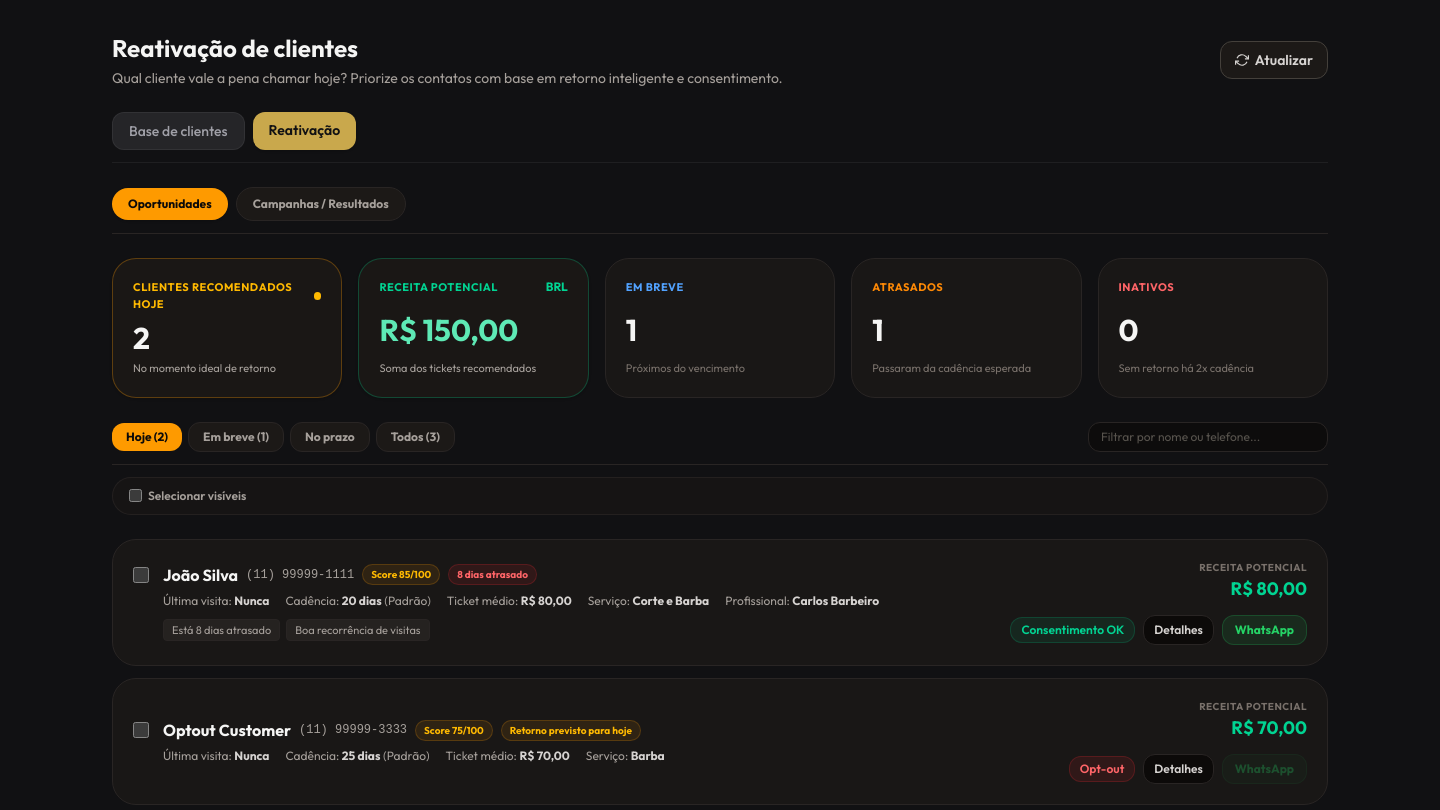
Smart CRM R4 — UI Component Tests › opens consent modal when clicking Registrar consentimento
The width and height of the screenshot is (1440, 810).
Expected: the text "João Silva" is shown, [163,563,238,587]
What coordinates should you click on to do the following:
click the tab "Todos (3)"
I would click on:
 (415, 436)
Its box is [376,422,455,452].
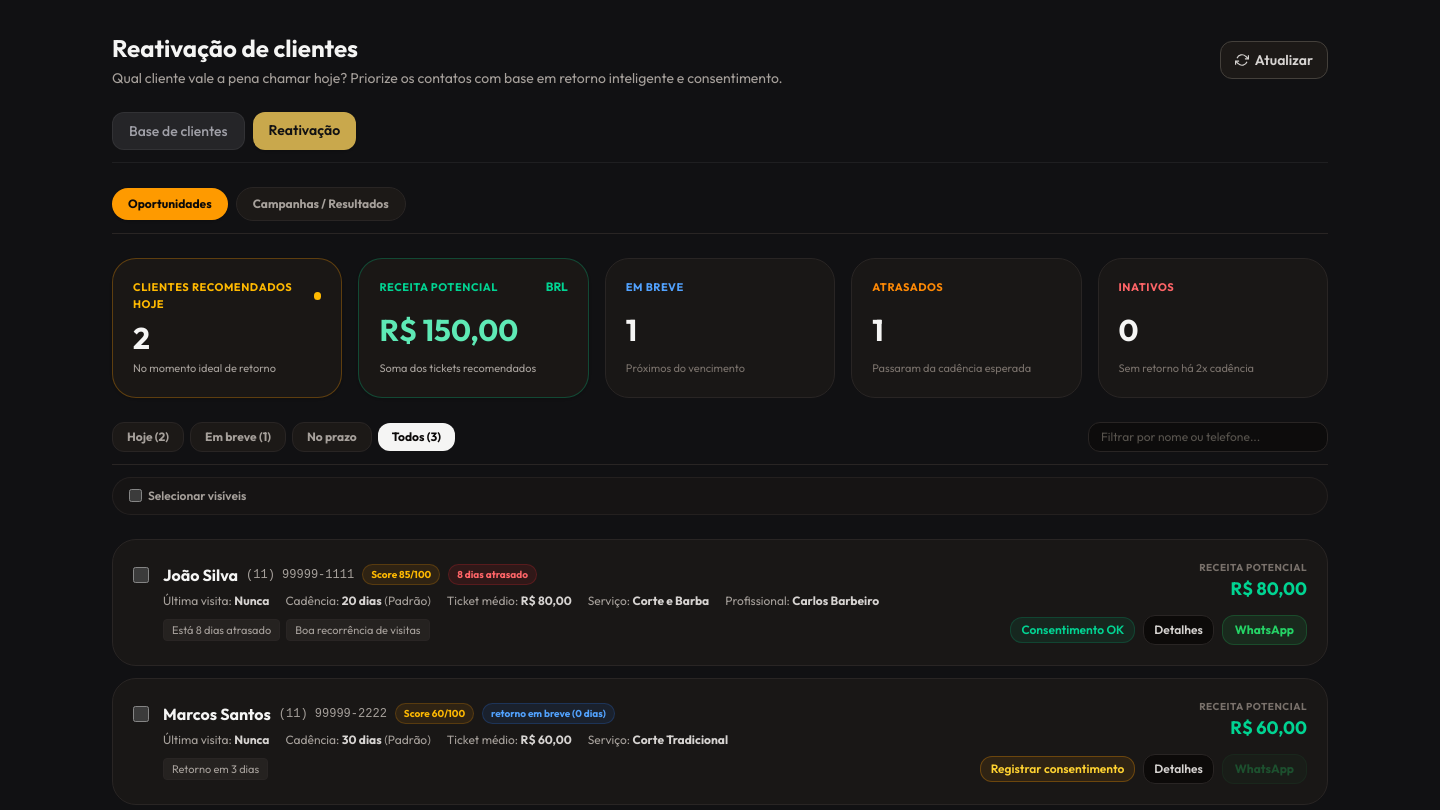
Result: the button "Registrar consentimento" is shown
What coordinates should you click on to do the following:
click the button "Registrar consentimento"
I would click on:
 (1058, 768)
Its box is [980,756,1135,782].
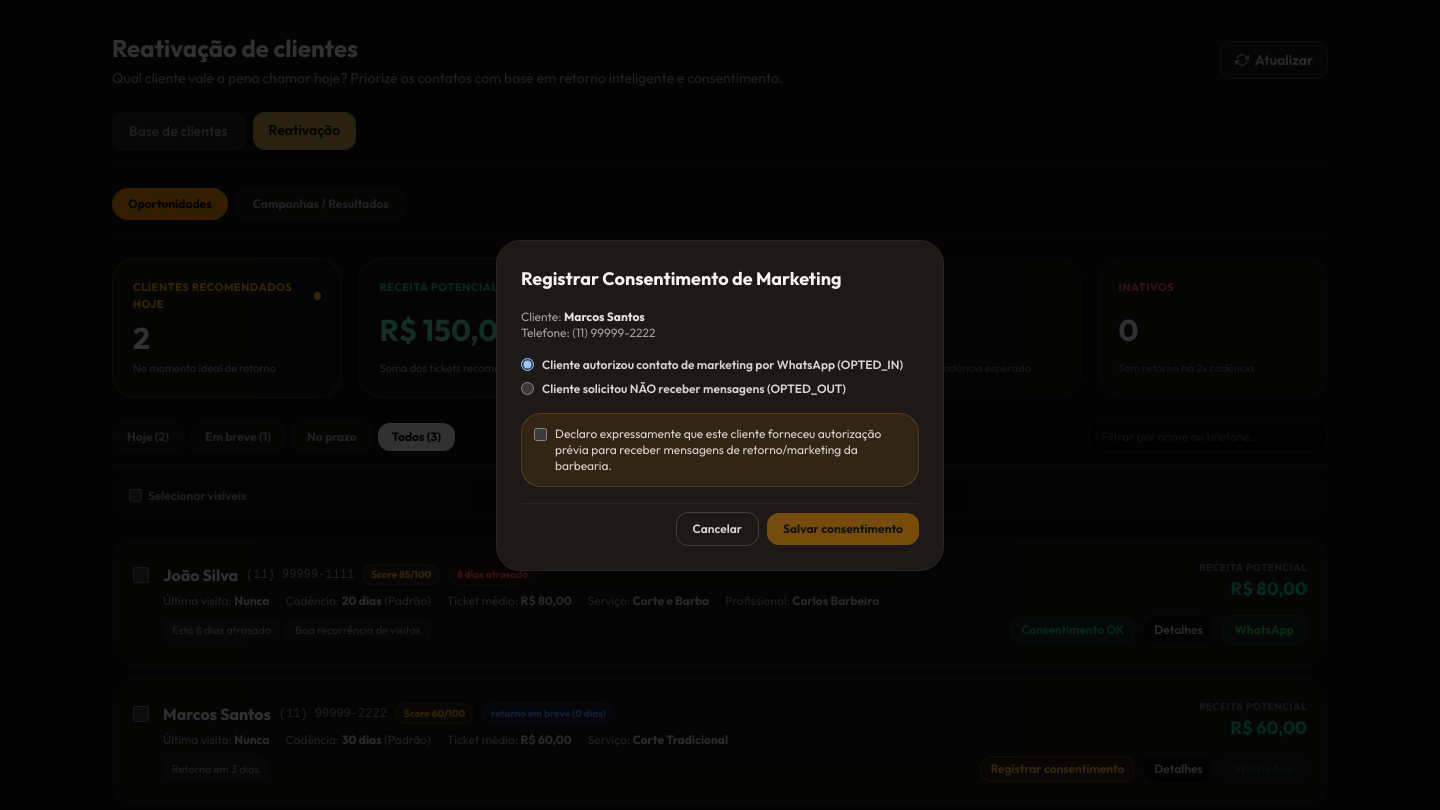
Result: the heading "Registrar Consentimento de Marketing" is shown at [521,266,842,290]
Result: the text "Declaro expressamente que este cliente forneceu autorização prévia" is shown at [555,426,881,472]
